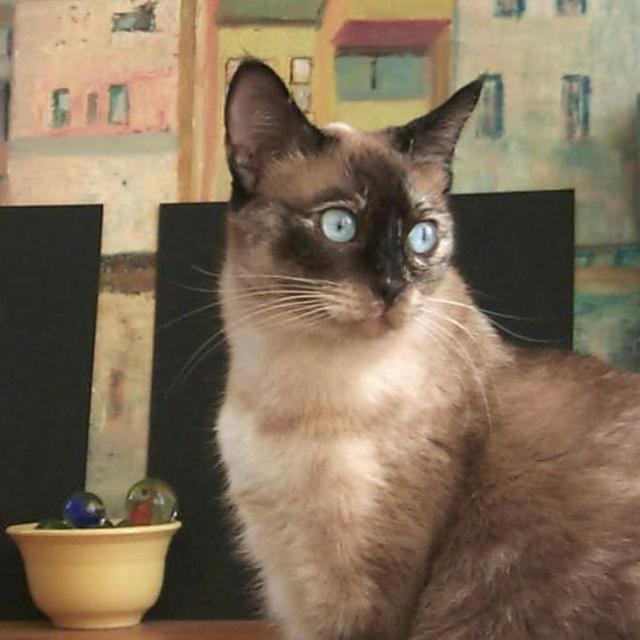Cat: (158, 48, 640, 640)
